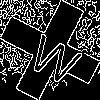W: (25, 25, 88, 87)
